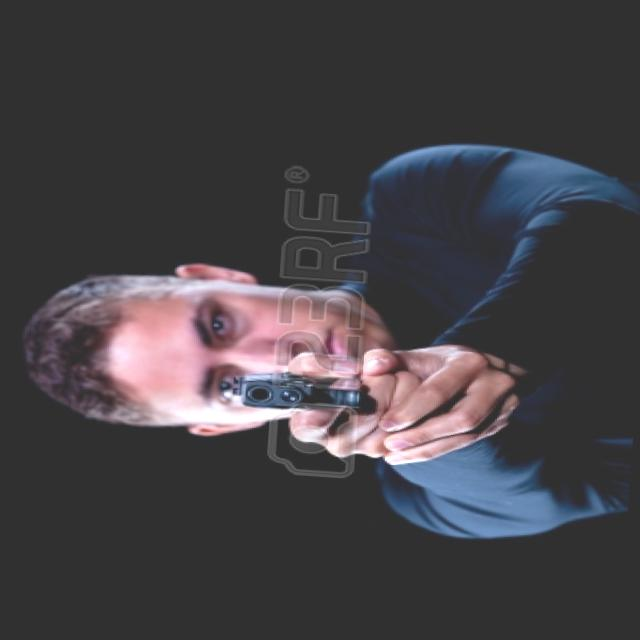handgun: (227, 365, 369, 417)
